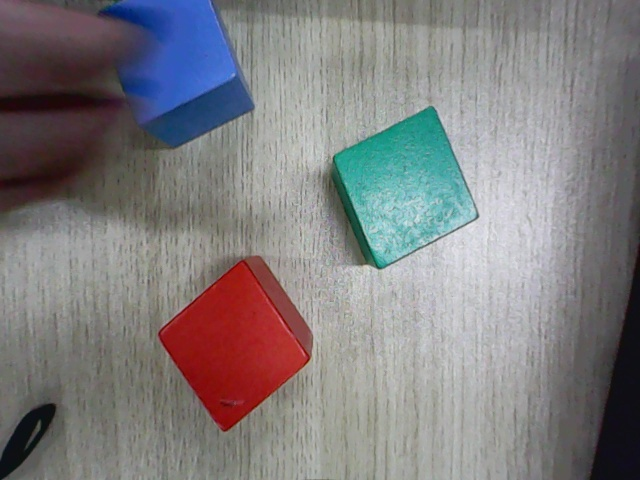upside of big cube: (158, 262, 310, 434), (334, 106, 479, 271), (99, 0, 238, 126)
